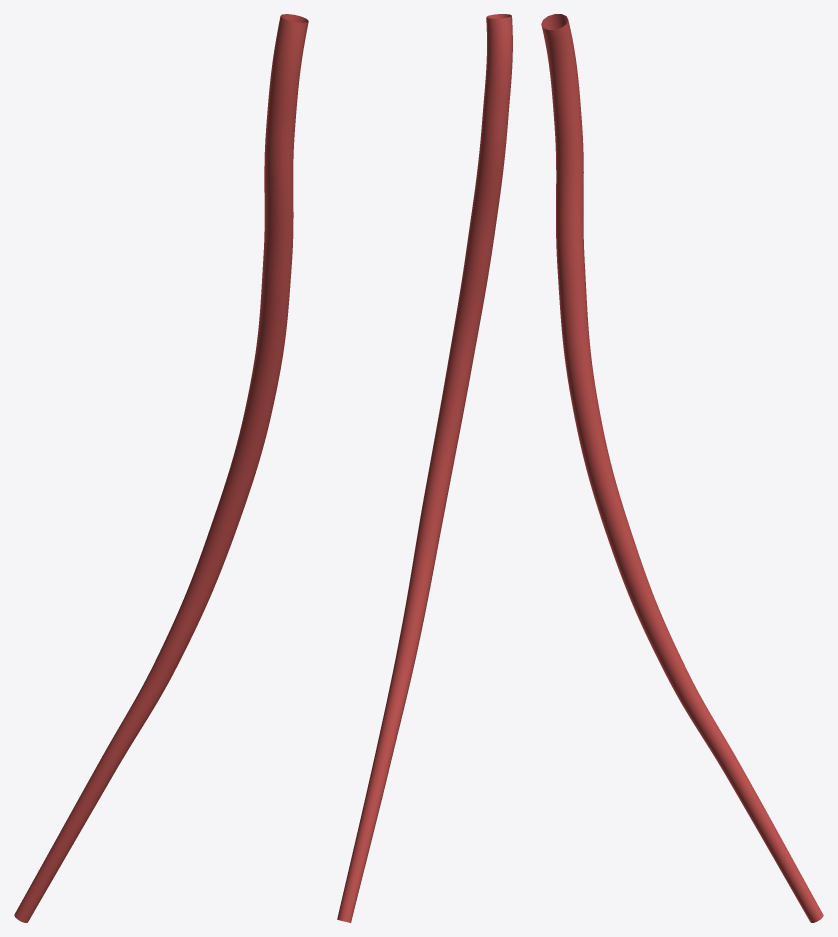
The picture shows the model from 3 angles, left to right: view 1: azimuth 90°, elevation 25°; view 2: azimuth 150°, elevation 25°; view 3: azimuth 270°, elevation 25°; orthographic projection. The views are drawn at different scales.
Parts seen in each view (by area): view 1: 左侧足底内侧动脉浅支; view 2: 左侧足底内侧动脉浅支; view 3: 左侧足底内侧动脉浅支.
Boxes of the visible parts, x1=… form: 左侧足底内侧动脉浅支: x1=14, y1=14, x2=308, y2=922; 左侧足底内侧动脉浅支: x1=337, y1=14, x2=512, y2=922; 左侧足底内侧动脉浅支: x1=541, y1=14, x2=823, y2=922.
Bounding box in the file's own units: 0.00697 × 0.0937 × 0.0271.
